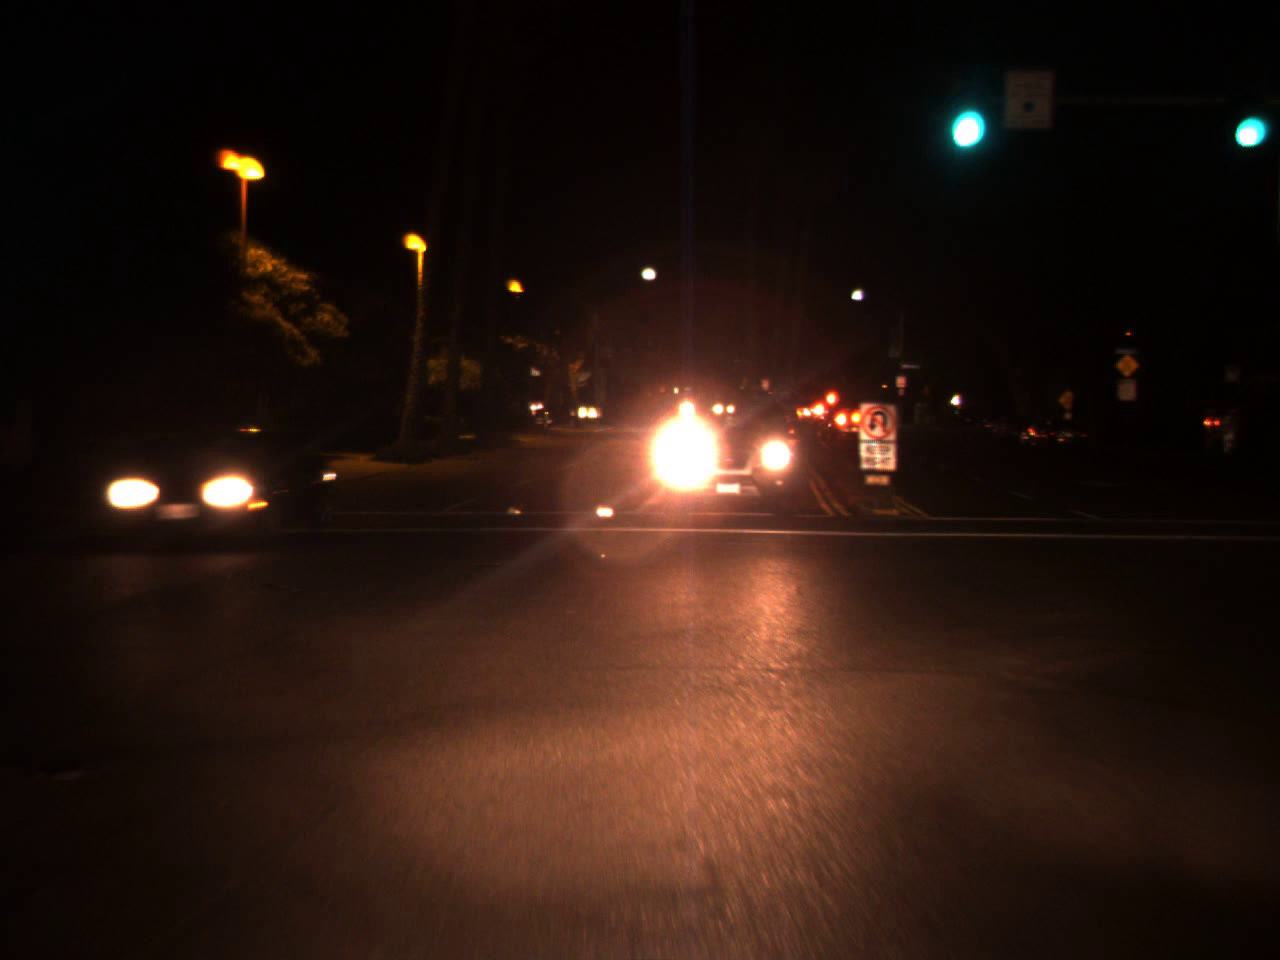go: (1222, 81, 1272, 156), (942, 73, 983, 160)
